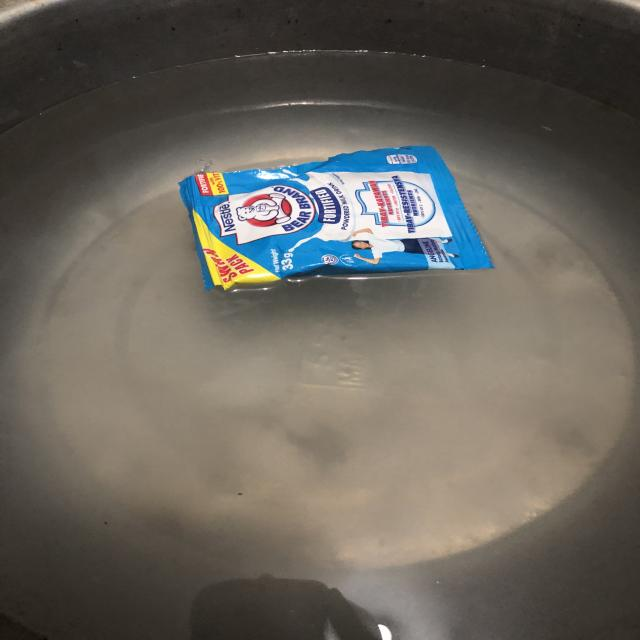Plastic Wrapper: (150, 119, 521, 314)
